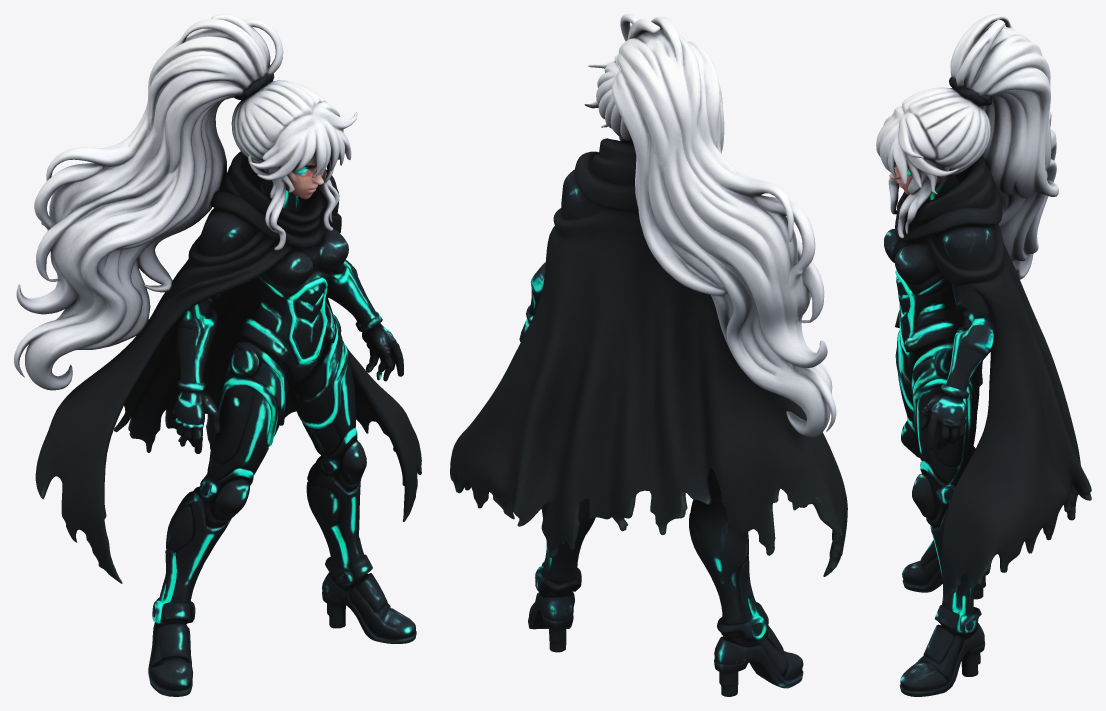
File: pandora_sprite.glb
3 views of the same model, side by side, from view 1: azimuth 30°, elevation 25°; view 2: azimuth 150°, elevation 25°; view 3: azimuth 270°, elevation 25° (orthographic). The views are drawn at different scales.
Parts seen in each view (by area): view 1: model; view 2: model; view 3: model.
Part boxes in pixels (box(x1,y1,x2,y2)): model: box(14, 14, 421, 696); model: box(450, 14, 847, 696); model: box(876, 14, 1091, 696).
Bounding box in the file's own units: 1.22 × 1.9 × 0.6152.
1 material, 1 textured.
